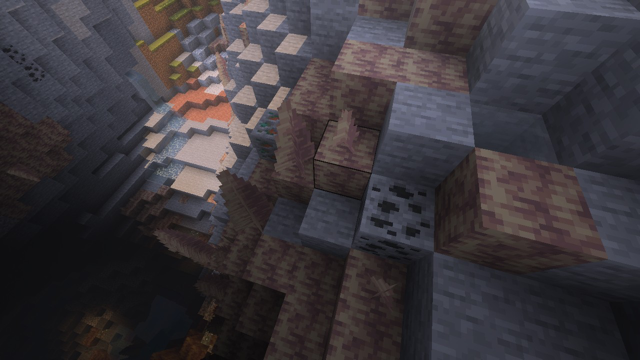coal: (353, 177, 438, 265), (1, 42, 49, 86)
copper: (250, 107, 298, 165)
